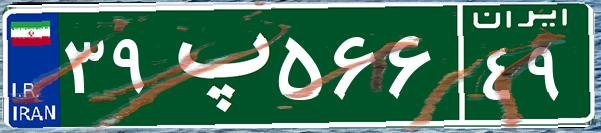3: (57, 26, 110, 107)
4: (475, 38, 525, 113)
5: (273, 28, 330, 110)
6: (385, 28, 445, 110), (330, 28, 385, 110)
9: (110, 28, 158, 105), (525, 38, 570, 115)
پ: (158, 15, 273, 115)
